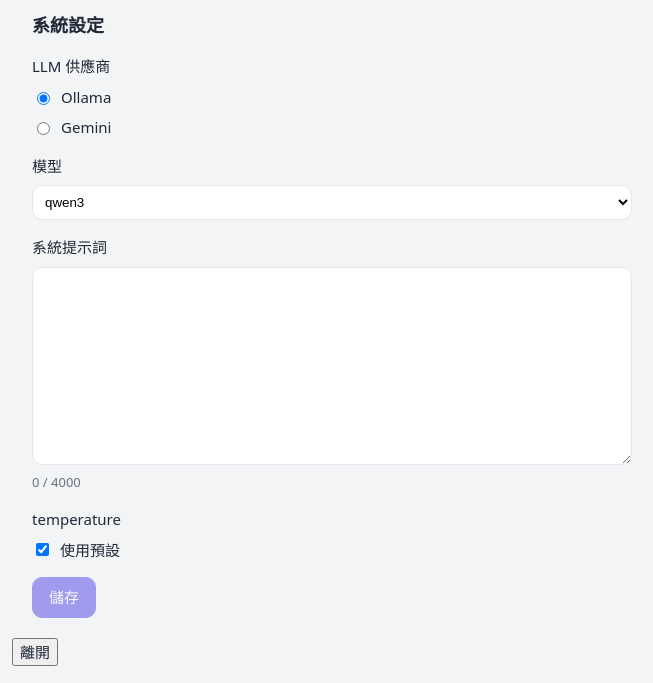
Test: SettingsPage › shows server error on failure
Type "x" into the text box labelled "系統提示詞".
click(332, 366); type("x")  # box [32,266,632,464]
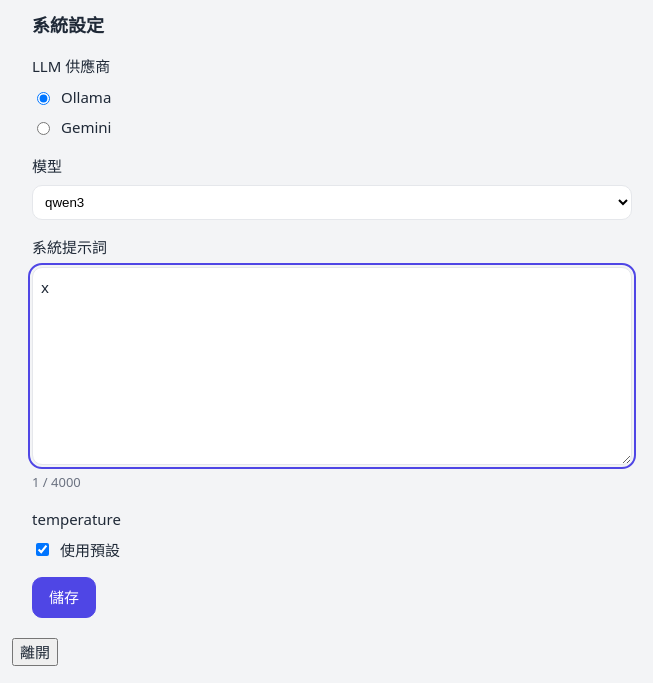
Click the button "儲存".
click(64, 597)  # box [32,577,96,618]
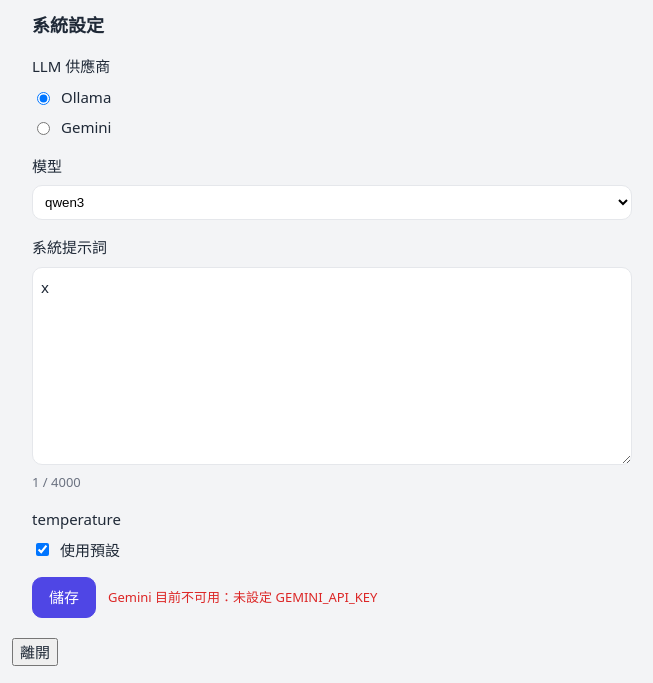
Expected: the text "Gemini 目前不可用：未設定 GEMINI_API_KEY" is shown, [108,588,377,607]
